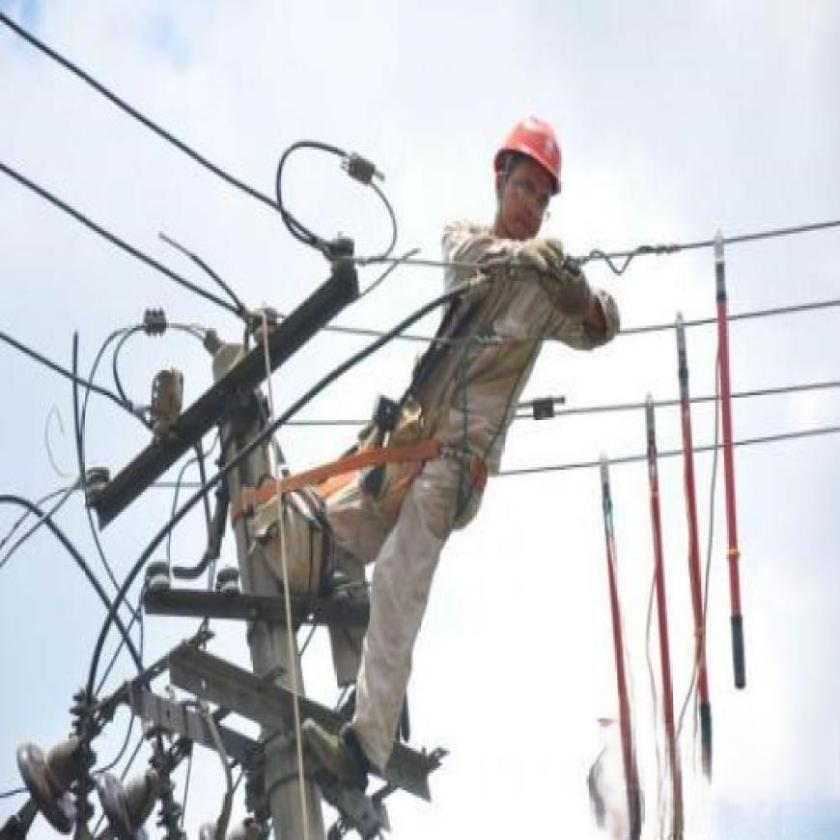Con_casco: (484, 104, 572, 256)
